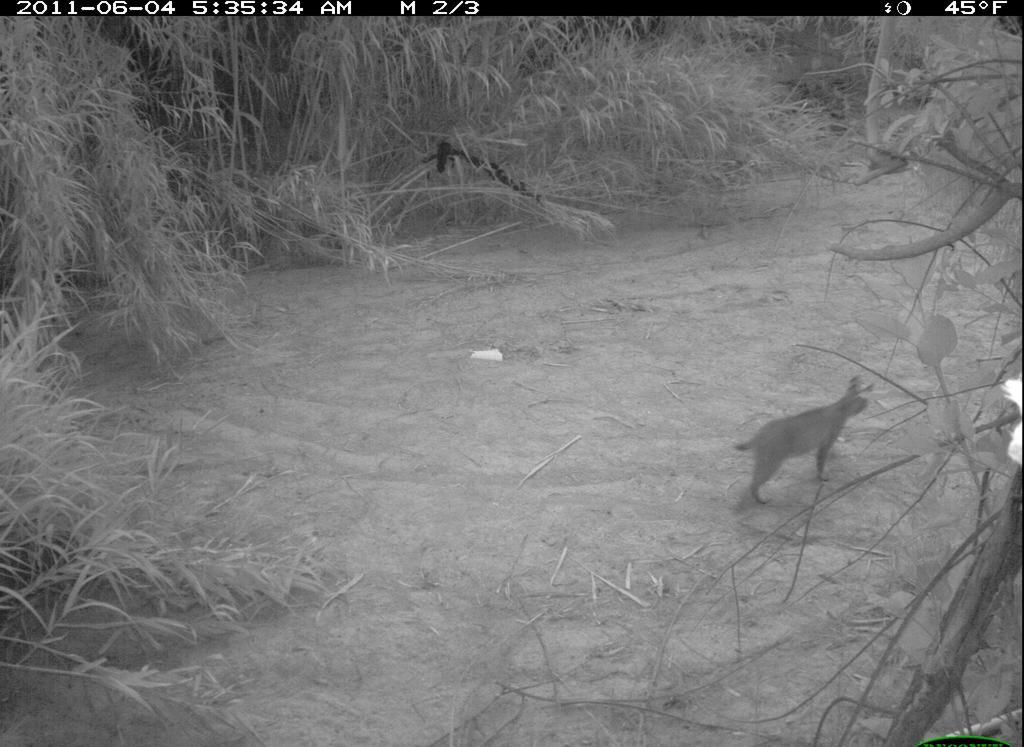bobcat: (728, 377, 880, 516)
